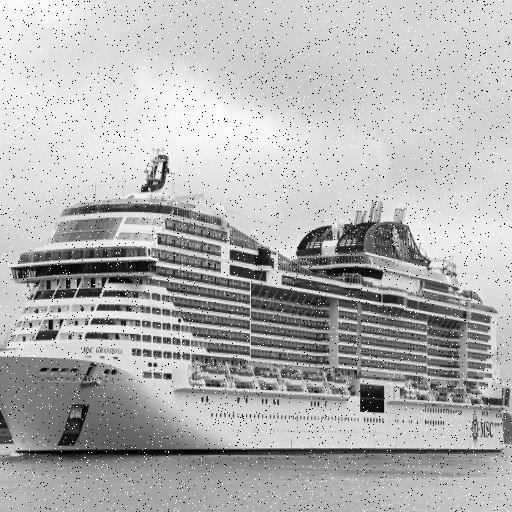cruises: (1, 148, 512, 467)
